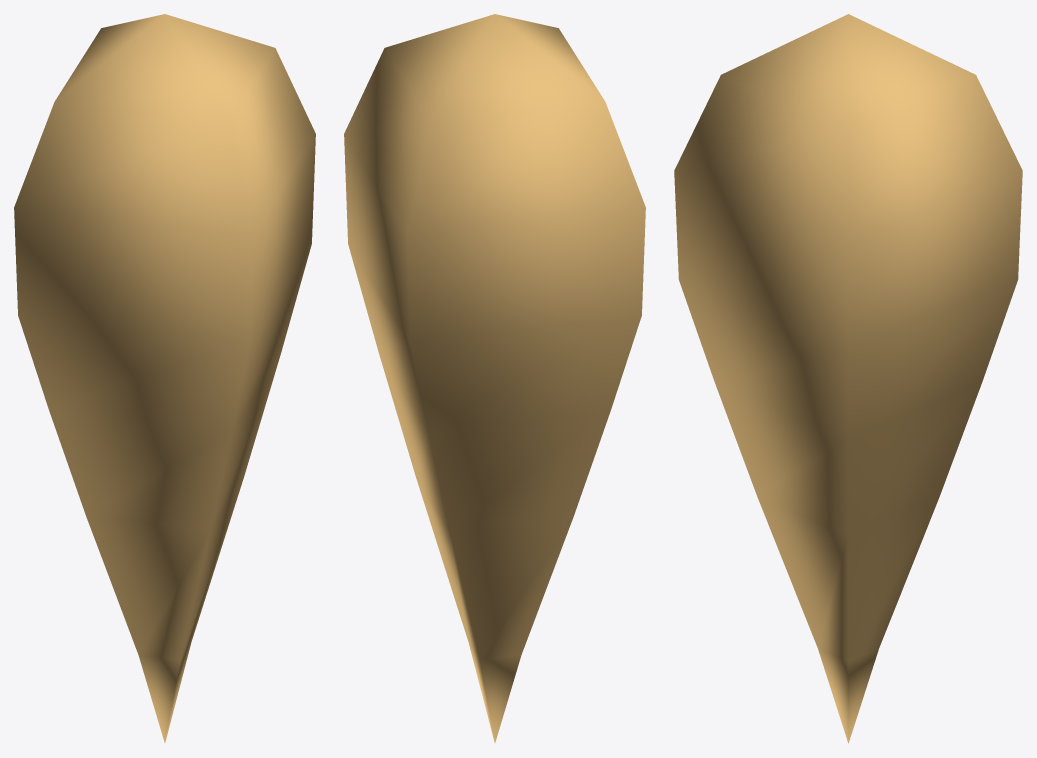
File: Projectile.fbx
3 views of the same model, side by side, from view 1: azimuth 30°, elevation 25°; view 2: azimuth 150°, elevation 25°; view 3: azimuth 270°, elevation 25° (orthographic).
Parts seen in each view (by area): view 1: Projectile; view 2: Projectile; view 3: Projectile.
Boxes of the visible parts, x1,y1,x2,y2 form: Projectile: (14, 14, 315, 742); Projectile: (344, 14, 645, 742); Projectile: (674, 14, 1022, 743).
Bounding box in the file's own units: 26.44 × 61.09 × 26.44.
